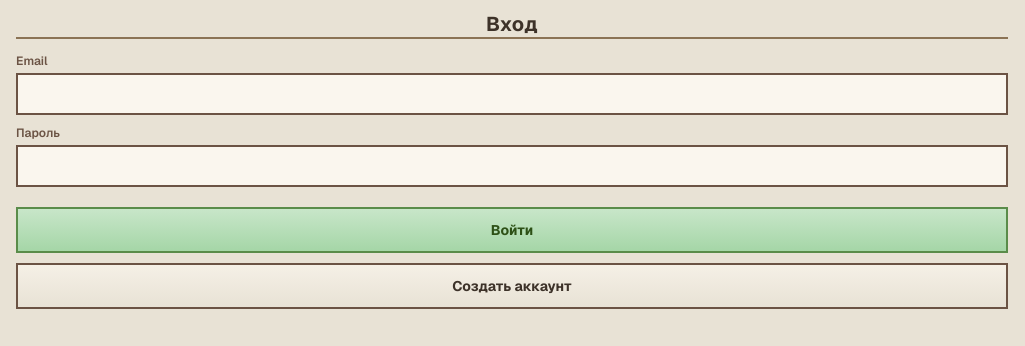
Test case: LoginView › показывает ошибку при отсутствии строчной буквы
The image size is (1025, 346).
In the password field labelled "Пароль": (512, 166) [16, 145, 1008, 187], type "ALLUPPERCASE1"
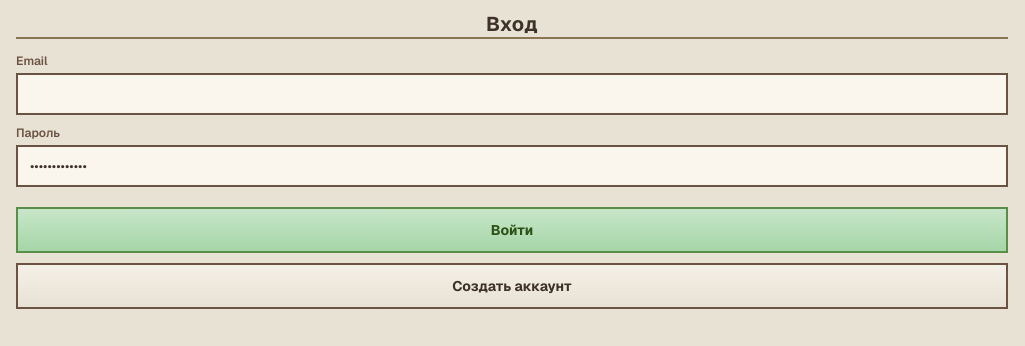
Leave the password field labelled "Пароль", box [16, 145, 1008, 187]
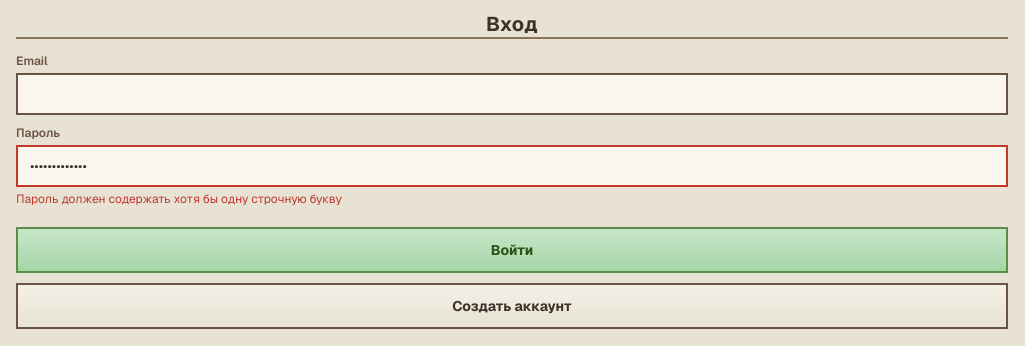
Result: the text "Пароль должен содержать хотя бы одну строчную букву" is shown at [16, 191, 342, 207]
